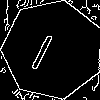I: (27, 25, 61, 72)
